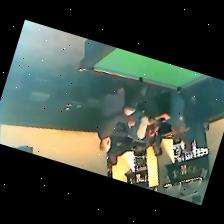person: (98, 87, 135, 151)
